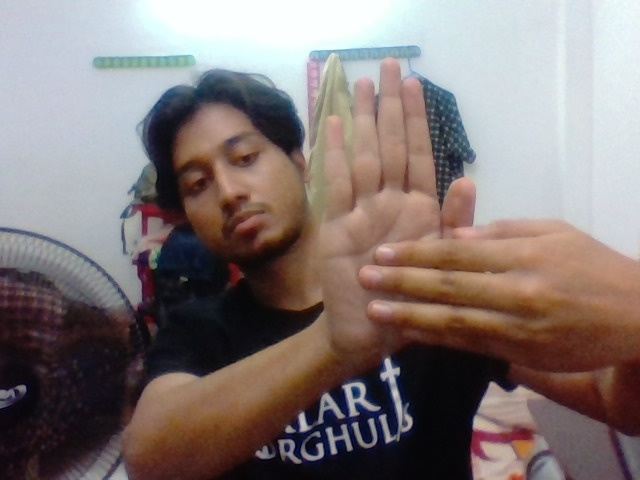H: (283, 43, 597, 372)
